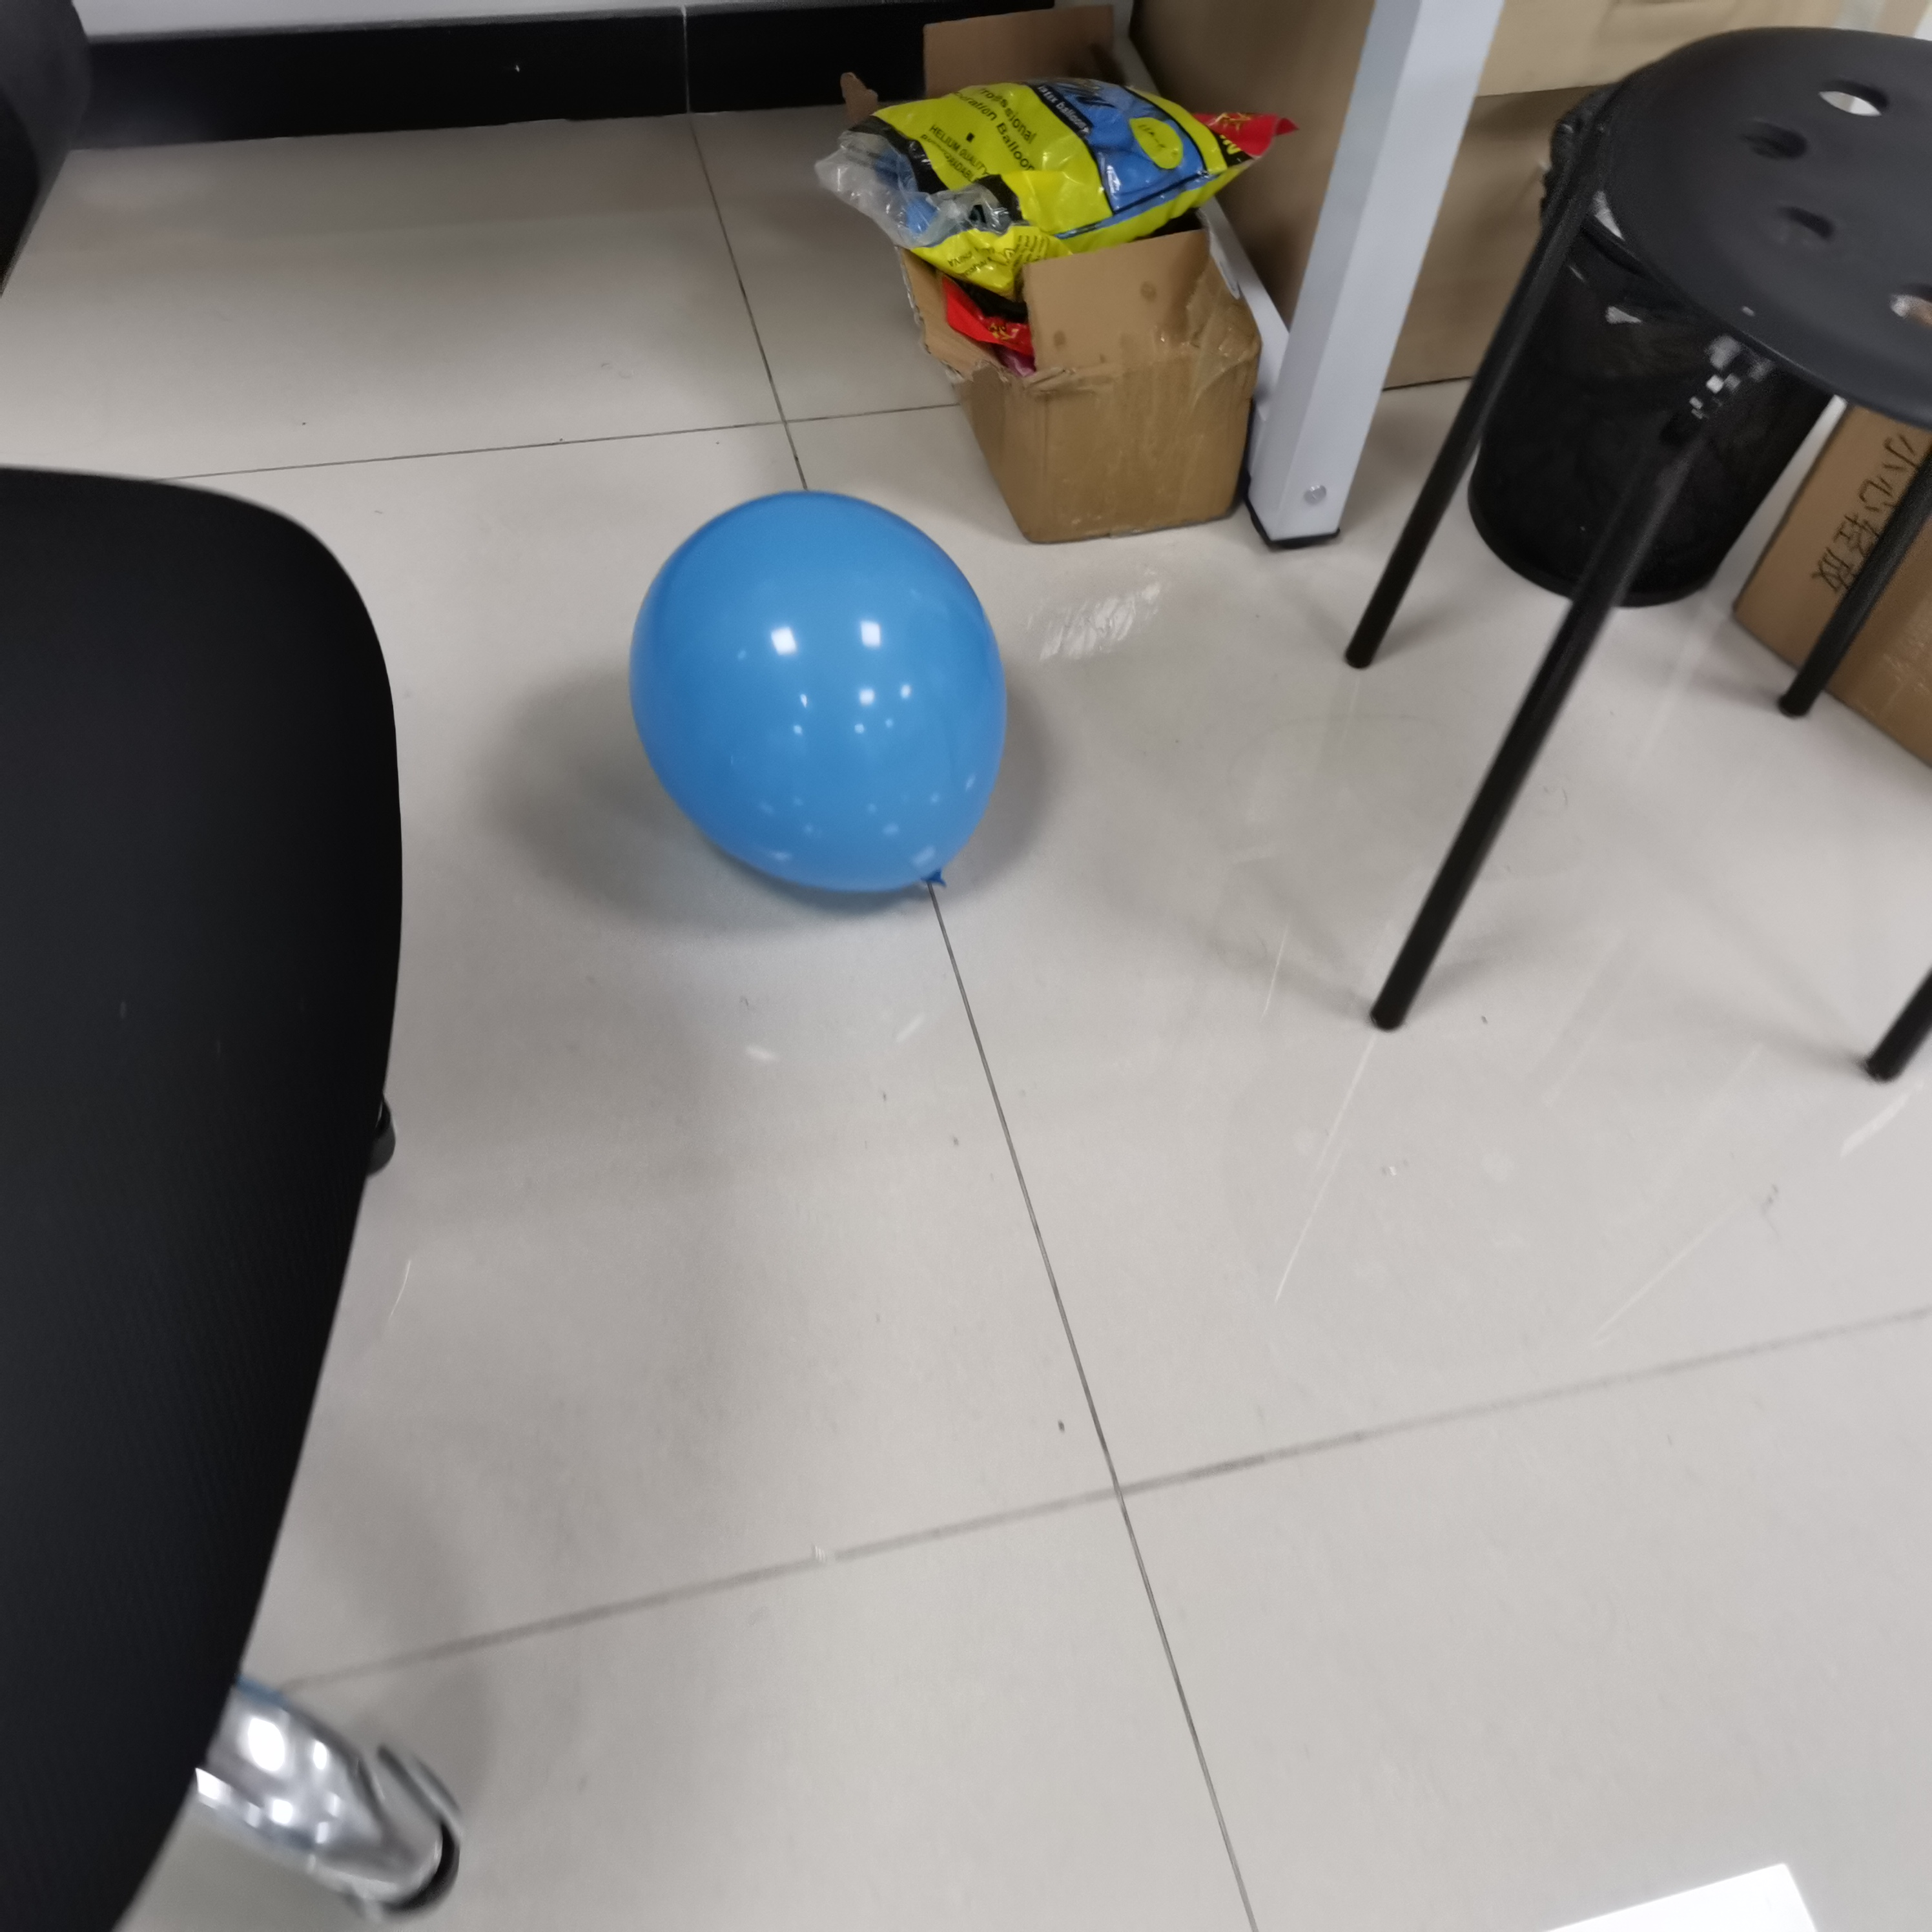balloon: (626, 492, 1008, 901)
